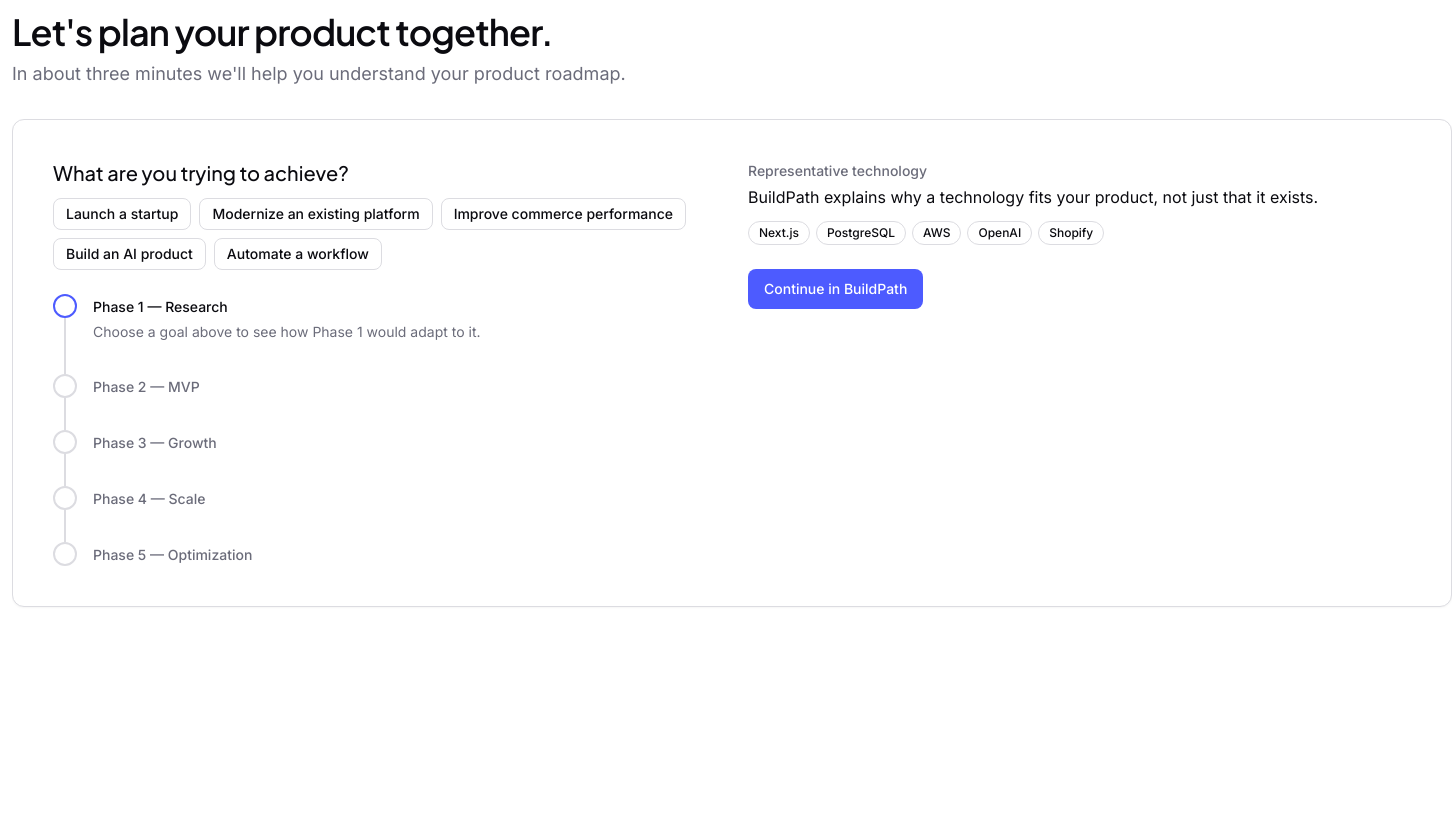
Test case: BuildPathPreview › updates the roadmap preview live when a goal is selected, and tracks it
This screenshot has width=1452, height=822.
Click the button "Launch a startup".
click(122, 214)  # box [53, 198, 192, 230]
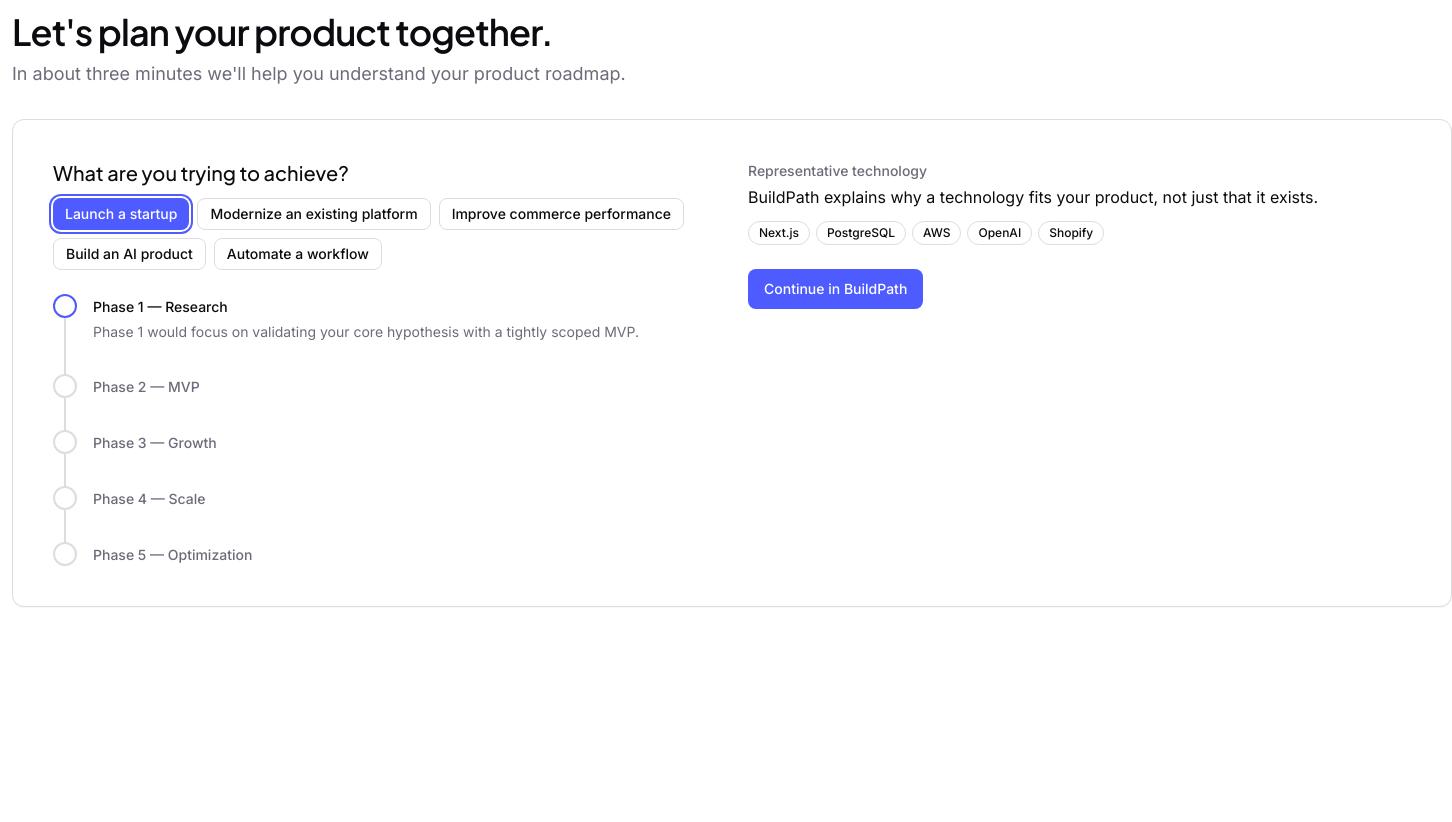
Check: the text "Phase 1 would focus on validating your core hypothesis with a tightly scoped MVP." is shown, box [93, 323, 639, 340]
